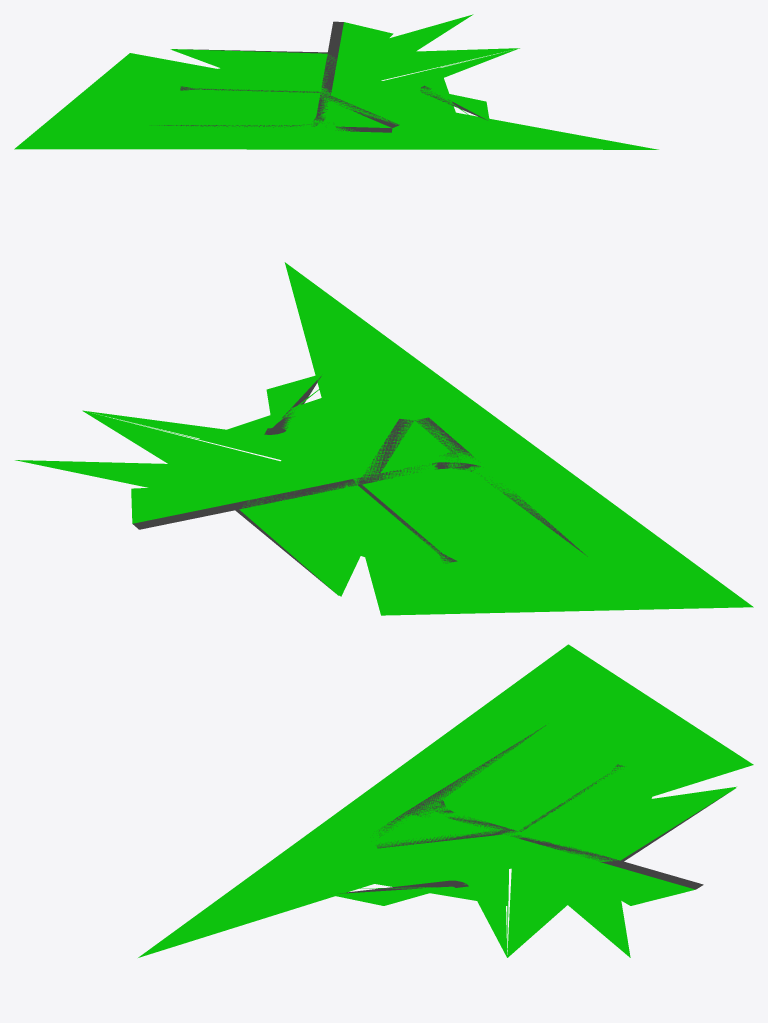
3 renders of one model, top to bottom at view 1: azimuth 30°, elevation 25°; view 2: azimuth 150°, elevation 25°; view 3: azimuth 270°, elevation 25°, orthographic. The views are drawn at different scales.
Size of the model in its own units: 210 by 0 by 180.
